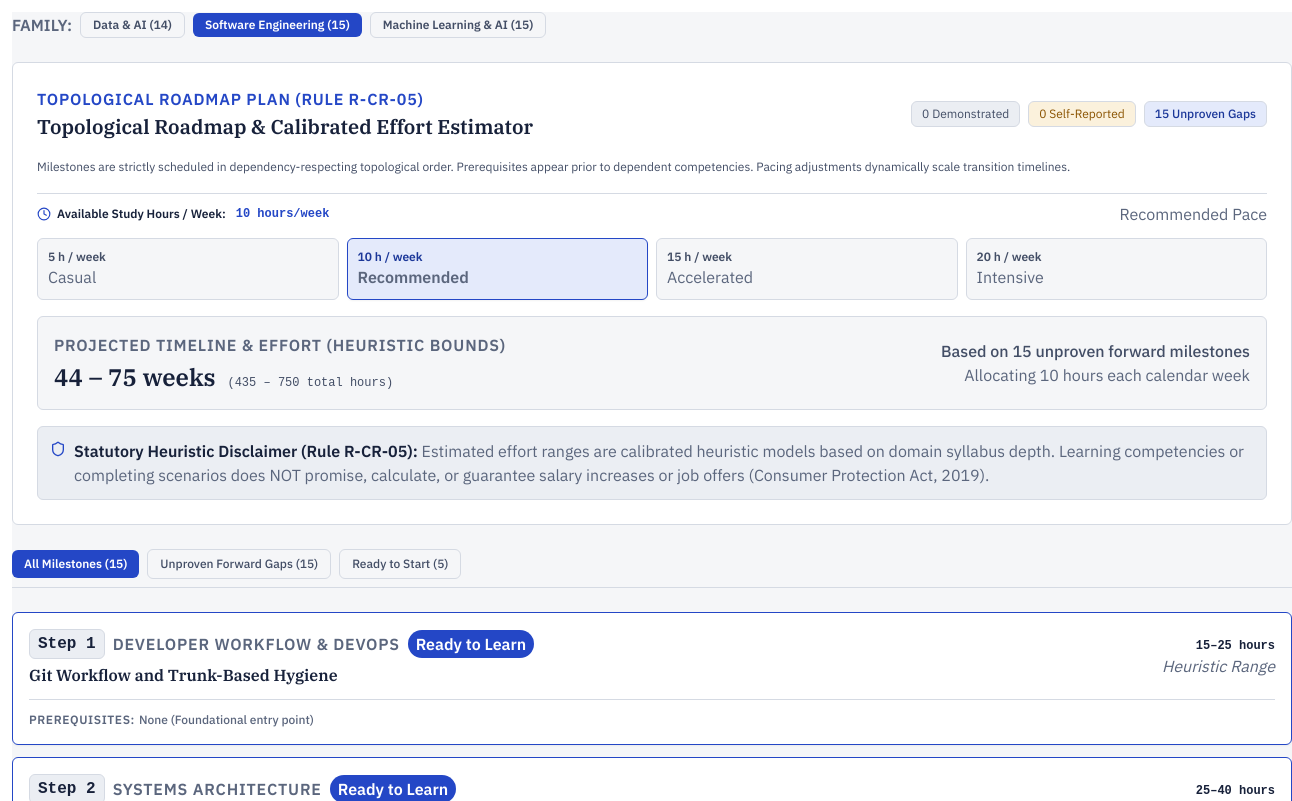
Test: RoadmapView (T15.31 Topological Roadmap & Effort Estimator) › renders 15 SWE milestones when SWE family is active
Expected: the element with test id "milestone-step-1" shows "Git Workflow and Trunk-Based Hygiene", [29,664,338,684]
# Switch back to DATA family
What coordinates should you click on to do the following:
click the button with aria-label "view data & ai roadmap"
I would click on:
 (132, 25)
Its box is [80,12,185,38].
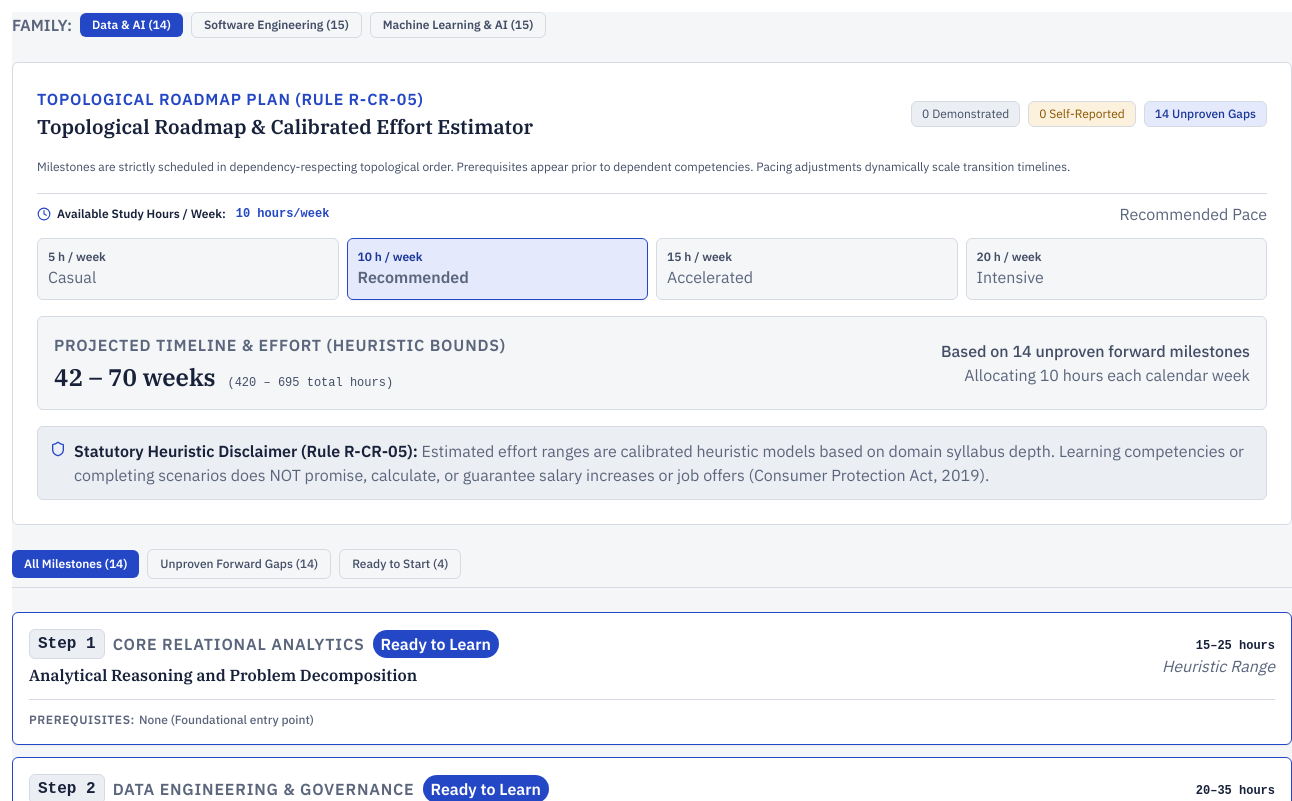
Now the element with test id "milestone-step-1" shows "Analytical Reasoning and Problem Decomposition", box [29,664,417,684]
